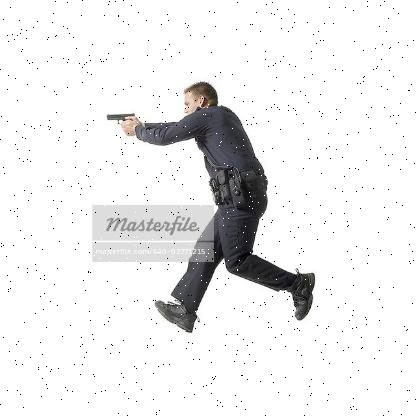gun: (105, 112, 138, 136)
